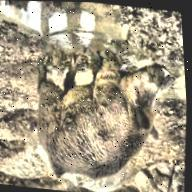boar: (27, 48, 183, 192)
